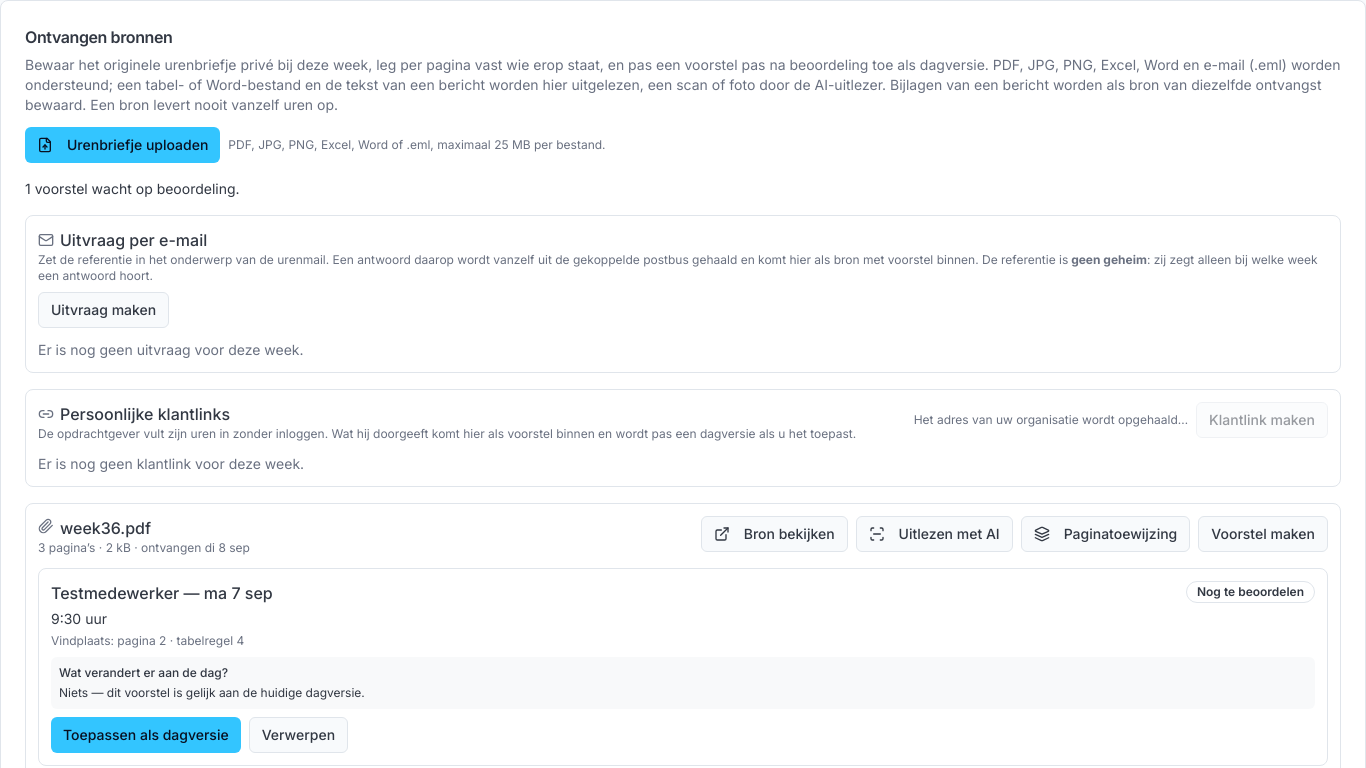
Test: internal hours intake › reports an unchanged application without pretending a new version exists
Expected: the text "Niets — dit voorstel is gelijk aan de huidige dagversie." is shown, [59, 685, 365, 700]
Click the button "Toepassen als dagversie".
click(146, 735)  # box [51, 717, 241, 753]
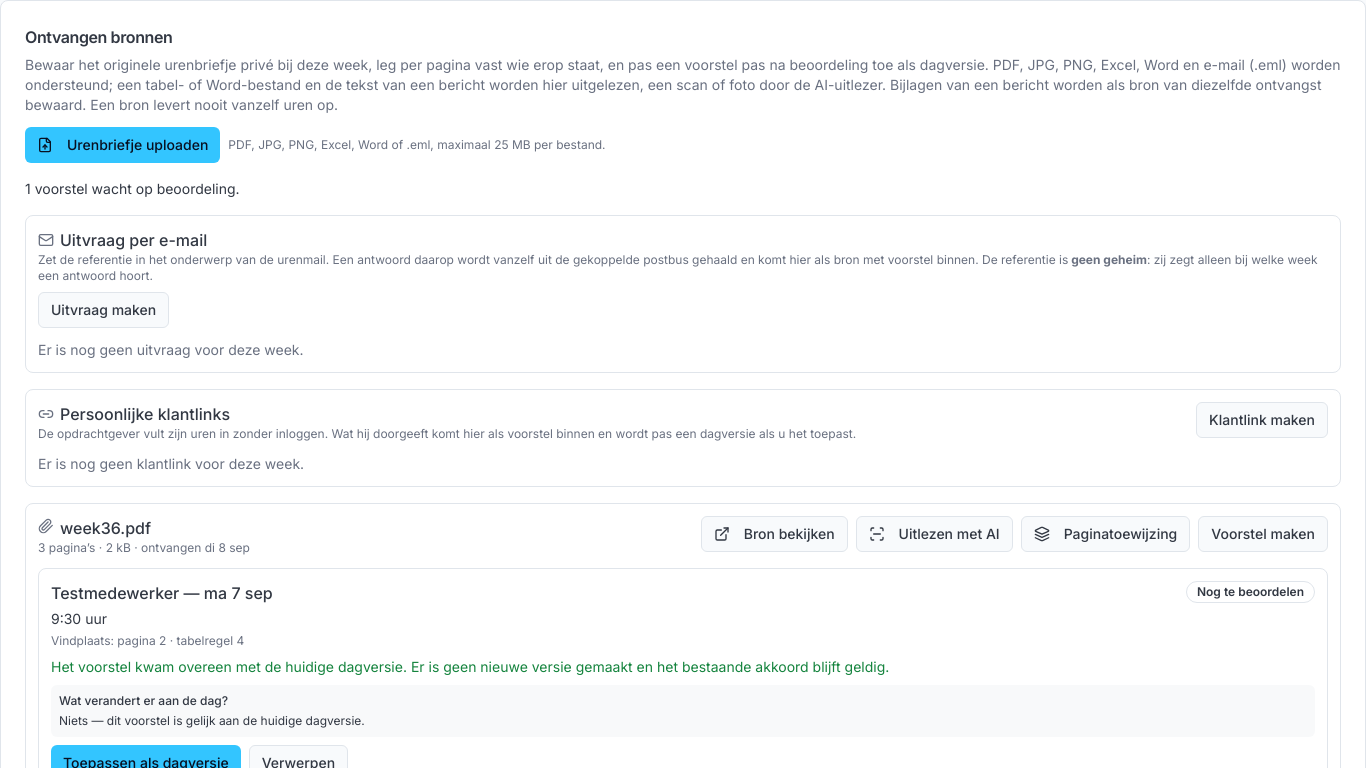
Expected: the message shows "Er is geen nieuwe versie gemaakt", [51, 658, 889, 675]
